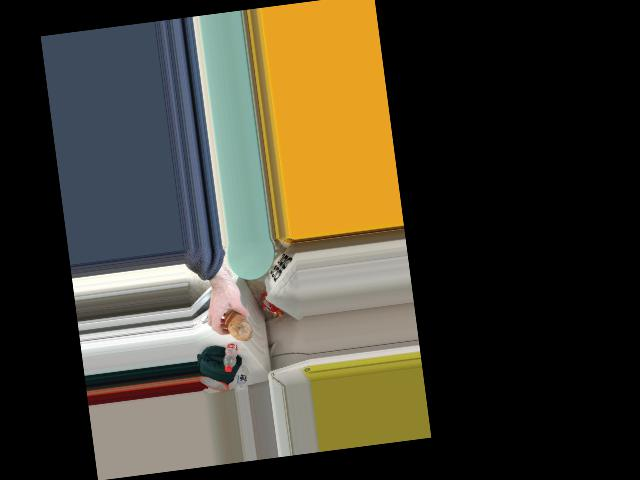sweet_potato: (221, 306, 253, 343)
